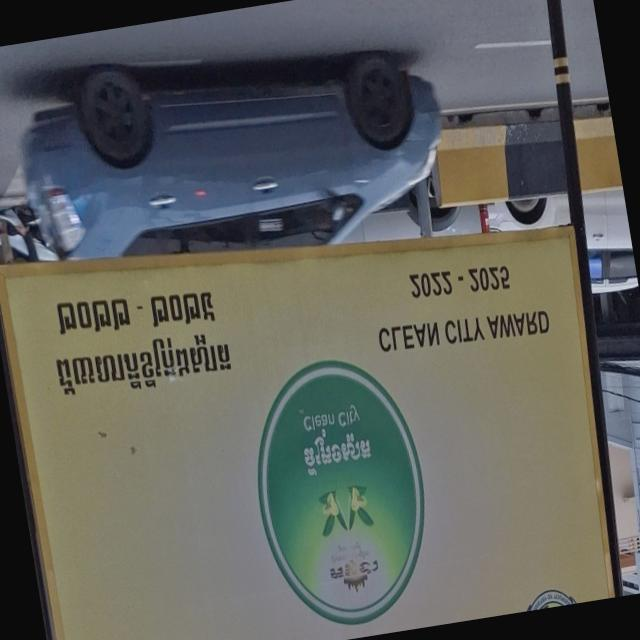2: (15, 267, 264, 355)
648: (373, 235, 550, 311)
893: (286, 410, 391, 498)
Yolov11_80vkh: (40, 326, 267, 426)
